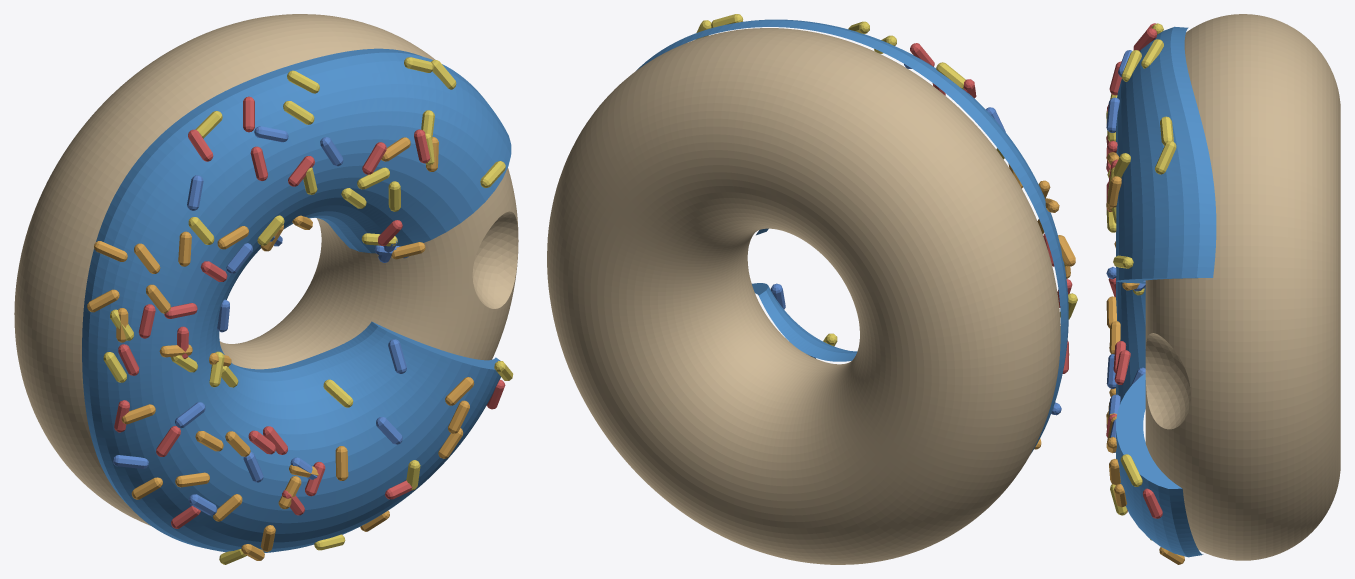
Rendered from donut.glb.
The picture shows the model from 3 angles, left to right: view 1: azimuth 30°, elevation 25°; view 2: azimuth 150°, elevation 25°; view 3: azimuth 270°, elevation 25°; orthographic projection. The views are drawn at different scales.
Visible parts, largest first — view 1: world; view 2: world; view 3: world.
Part boxes in pixels (x1,y1,x2,y2): world: (14,14,518,564); world: (547,14,1077,564); world: (1106,14,1340,564).
Size of the model in its own units: 0.14 by 0.14 by 0.0601.
